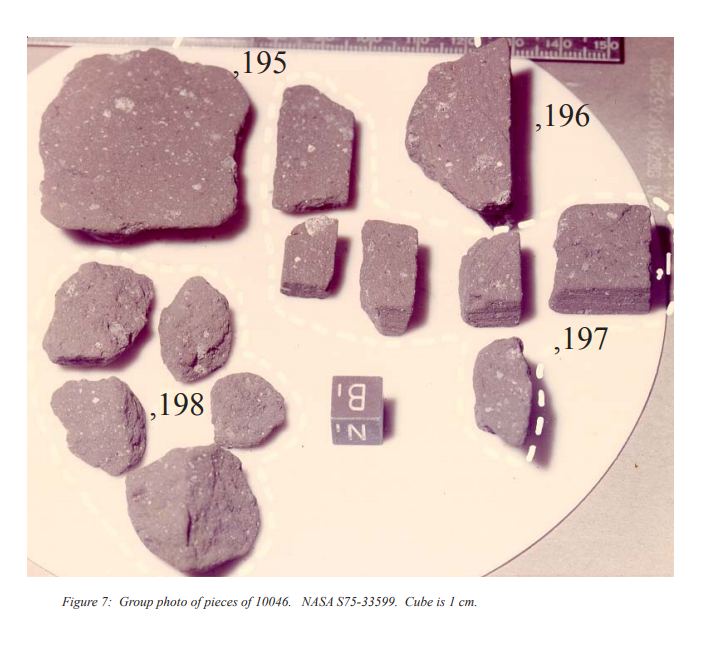Breccia: (43, 29, 621, 304), (52, 254, 263, 571), (420, 26, 547, 477)
